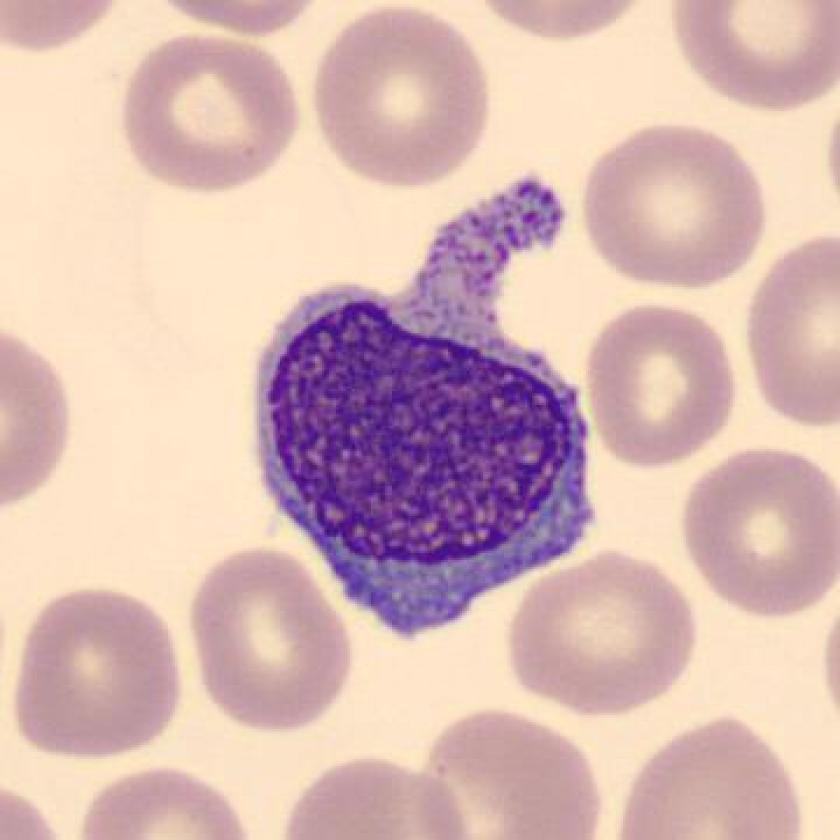monocyte: (227, 161, 617, 654)
